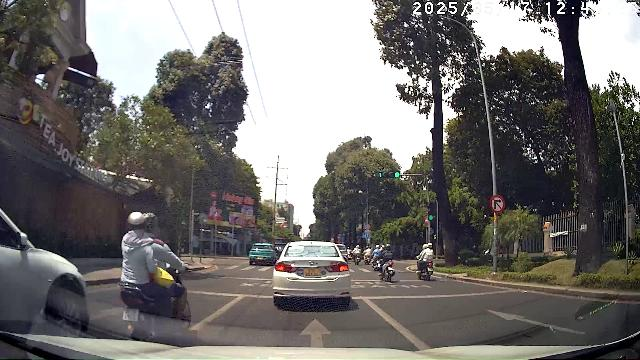123b-cam-re-phai: (490, 194, 506, 214)
